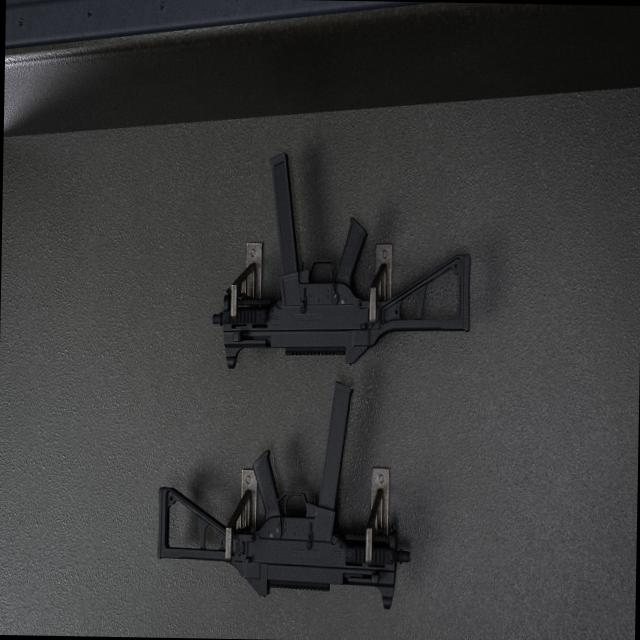Gun: (164, 112, 496, 372), (152, 381, 446, 620)
